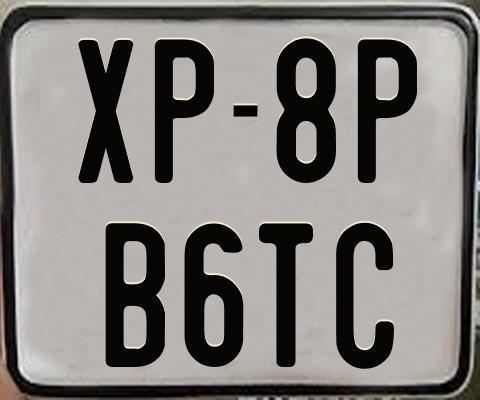6: (184, 221, 245, 370)
8: (273, 38, 336, 184)
B: (102, 222, 168, 367)
C: (336, 222, 400, 373)
P: (152, 36, 216, 183), (358, 39, 422, 184)
T: (256, 221, 311, 367)
X: (78, 38, 134, 181)
